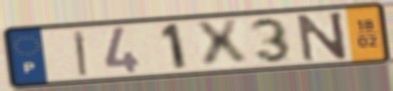1: (159, 21, 189, 72)
3: (249, 15, 294, 64)
4: (102, 25, 142, 76)
I: (71, 29, 90, 78)
N: (294, 10, 350, 64)
X: (191, 17, 252, 70)
